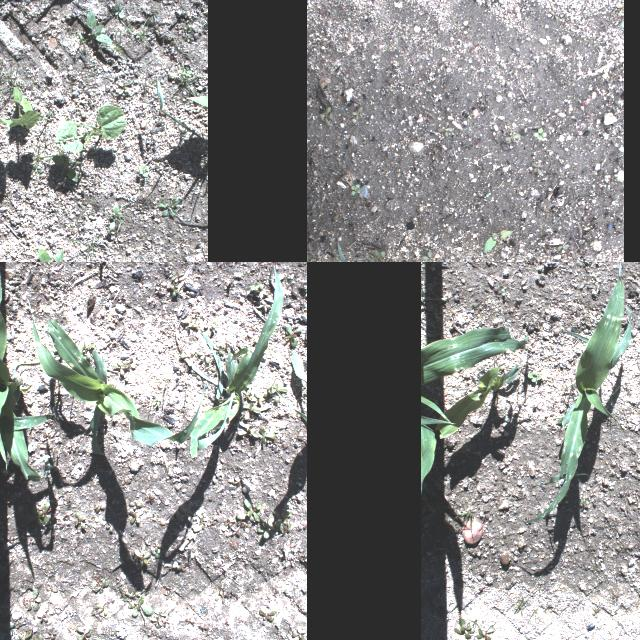crop: (517, 262, 632, 523), (29, 308, 205, 457), (188, 262, 283, 458), (0, 262, 55, 487), (421, 326, 529, 386), (439, 364, 517, 438), (52, 102, 130, 154), (0, 56, 42, 130), (422, 397, 452, 493), (280, 398, 307, 440), (290, 350, 307, 400)
weed: (156, 74, 204, 140), (83, 8, 115, 46), (23, 499, 54, 528), (484, 230, 516, 256), (452, 505, 478, 533), (22, 588, 44, 616), (78, 241, 106, 262), (156, 199, 180, 223), (274, 502, 292, 534), (26, 248, 66, 262), (284, 321, 304, 347), (130, 596, 152, 618), (454, 618, 476, 640), (108, 202, 124, 232), (269, 380, 289, 404), (236, 420, 260, 440), (256, 516, 276, 540), (176, 69, 196, 91), (33, 148, 53, 170), (244, 498, 262, 522), (88, 576, 112, 594), (108, 0, 128, 21), (248, 282, 268, 302), (79, 338, 95, 362), (114, 78, 134, 96), (128, 25, 148, 43), (316, 106, 336, 124), (242, 402, 262, 420), (178, 507, 194, 529), (182, 25, 200, 43), (527, 160, 545, 178), (554, 236, 572, 254), (179, 347, 197, 365), (438, 119, 454, 139), (368, 248, 390, 262), (614, 0, 623, 34), (138, 162, 154, 180), (530, 126, 548, 142), (261, 426, 277, 444), (258, 610, 278, 624), (136, 549, 150, 569), (89, 602, 109, 616), (512, 598, 532, 612), (182, 314, 198, 331), (188, 95, 208, 108), (76, 624, 92, 640), (124, 592, 140, 608), (417, 247, 434, 262), (504, 133, 522, 147), (351, 105, 365, 123), (72, 511, 86, 529), (475, 628, 496, 640), (147, 10, 159, 30), (110, 361, 126, 375), (250, 392, 266, 406), (128, 510, 144, 524), (0, 619, 12, 637), (116, 31, 125, 54), (0, 64, 12, 81), (609, 388, 619, 408), (72, 158, 80, 182), (198, 349, 210, 365), (215, 590, 231, 602), (148, 617, 164, 629), (526, 371, 542, 383), (347, 182, 361, 195), (235, 512, 253, 522), (128, 500, 146, 510), (45, 625, 57, 640), (253, 302, 270, 312), (36, 613, 48, 627), (332, 206, 342, 222), (169, 283, 179, 299), (105, 518, 115, 534), (292, 628, 307, 638), (224, 520, 236, 532), (195, 517, 207, 529), (78, 32, 88, 46), (170, 271, 184, 281), (196, 376, 210, 386), (175, 561, 189, 571), (154, 608, 168, 618), (152, 548, 162, 562), (118, 588, 132, 598), (44, 585, 58, 595), (550, 7, 560, 20), (92, 503, 106, 512), (18, 630, 30, 640), (126, 357, 134, 371), (274, 622, 284, 632), (146, 495, 156, 505), (209, 318, 217, 330), (203, 367, 215, 375), (4, 536, 15, 544), (152, 397, 160, 407), (244, 392, 252, 402), (232, 479, 242, 487), (580, 498, 590, 506), (32, 635, 47, 640), (183, 618, 195, 624), (220, 466, 232, 472), (49, 109, 56, 119), (166, 545, 177, 551), (500, 286, 506, 296), (592, 608, 598, 618), (199, 626, 209, 630), (94, 635, 102, 640), (608, 470, 618, 474)
